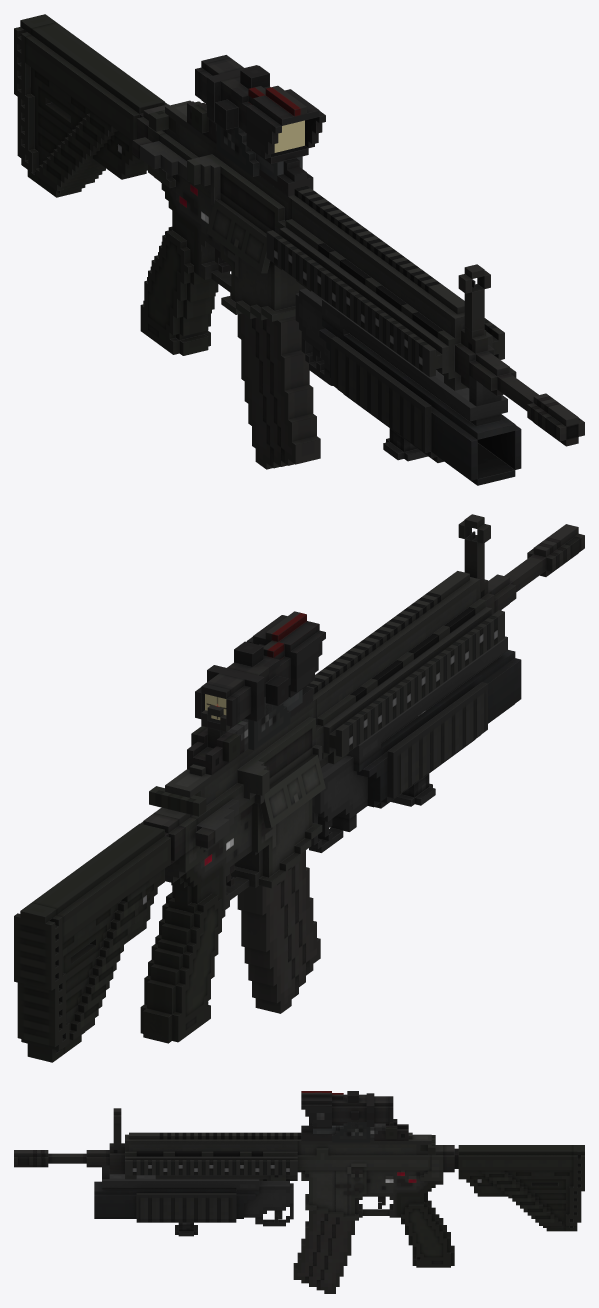
3 renders of one model, top to bottom at view 1: azimuth 30°, elevation 25°; view 2: azimuth 150°, elevation 25°; view 3: azimuth 270°, elevation 25°, orthographic. The views are drawn at different scales.
Parts seen in each view (by area): view 1: HK416, GP_M203, HK416_CLIP, SCOPE_ACOG, HK416_SCOPE, SCOPE_EOTECH, GRIP1; view 2: HK416, GP_M203, SCOPE_ACOG, HK416_CLIP, HK416_SCOPE, SCOPE_EOTECH, HK416_BOLT, GRIP1; view 3: HK416, GP_M203, HK416_CLIP, SCOPE_ACOG, SCOPE_EOTECH, HK416_SCOPE, GRIP1.
Boxes of the visible parts, left/top/right/bottom form: HK416: left=14, top=14, right=584, bottom=446; GP_M203: left=295, top=288, right=521, bottom=485; HK416_CLIP: left=237, top=313, right=320, bottom=469; SCOPE_ACOG: left=195, top=55, right=325, bottom=196; HK416_SCOPE: left=187, top=100, right=490, bottom=331; SCOPE_EOTECH: left=216, top=123, right=302, bottom=181; GRIP1: left=383, top=363, right=427, bottom=461; HK416: left=14, top=524, right=584, bottom=1062; GP_M203: left=309, top=609, right=521, bottom=852; SCOPE_ACOG: left=195, top=611, right=325, bottom=730; HK416_CLIP: left=237, top=850, right=320, bottom=1013; HK416_SCOPE: left=187, top=514, right=490, bottom=775; SCOPE_EOTECH: left=243, top=689, right=302, bottom=750; HK416_BOLT: left=149, top=786, right=206, bottom=816; GRIP1: left=391, top=708, right=435, bottom=806; HK416: left=14, top=1132, right=584, bottom=1267; GP_M203: left=94, top=1165, right=293, bottom=1226; HK416_CLIP: left=293, top=1210, right=354, bottom=1293; SCOPE_ACOG: left=301, top=1091, right=393, bottom=1140; SCOPE_EOTECH: left=313, top=1122, right=370, bottom=1142; HK416_SCOPE: left=113, top=1108, right=408, bottom=1142; GRIP1: left=175, top=1222, right=197, bottom=1236.
Bounding box in the file's own units: 0.1181 × 0.5609 × 1.47.
Materials: 9 (9 with a texture image).
